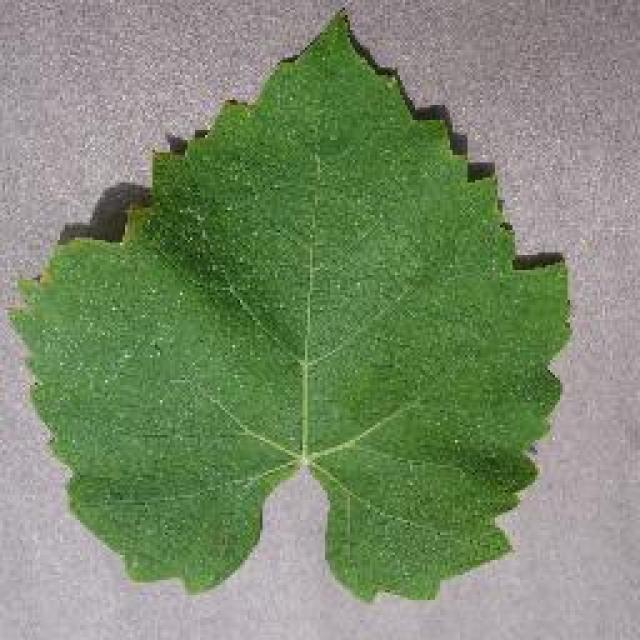Grape___healthy: (15, 20, 565, 598)
